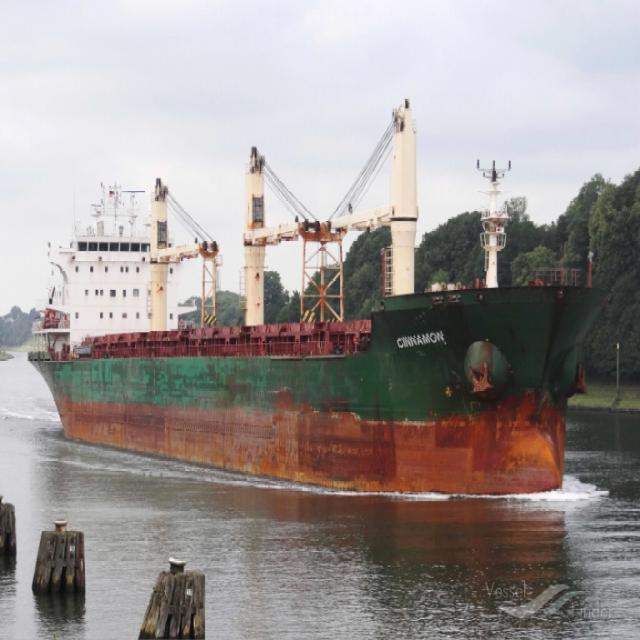OCR: (396, 325, 447, 356)
